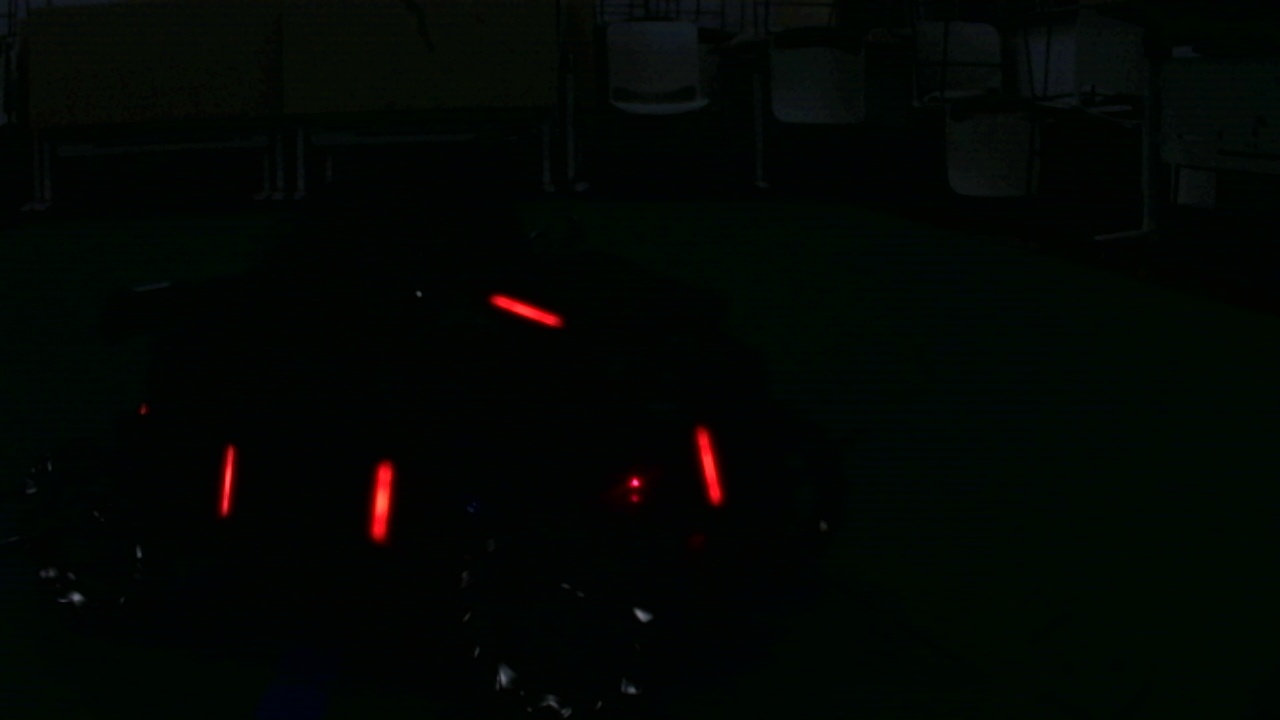lamp: (691, 422, 722, 510), (368, 456, 397, 542), (219, 437, 235, 519)
notpair1: (371, 424, 721, 545)
pair1: (219, 441, 399, 537)
